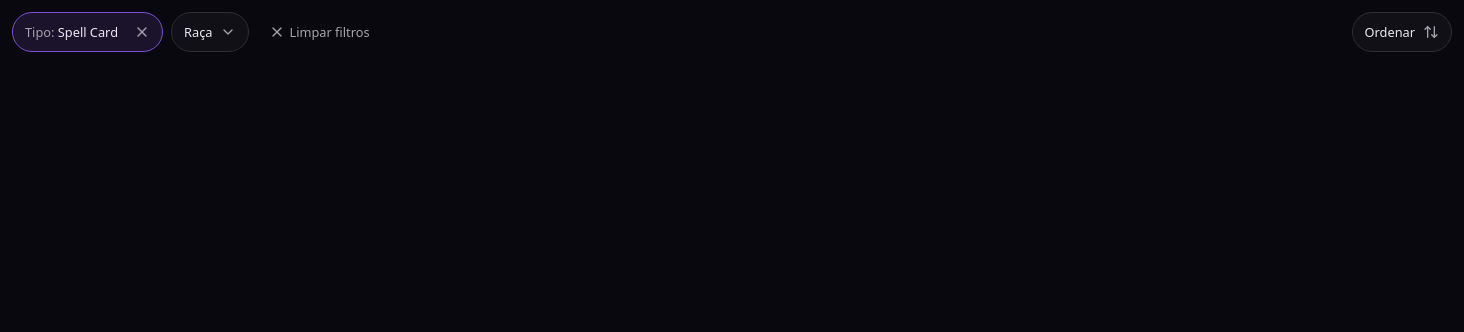
Test: FilterBar › Spell e Trap › should only offer spell races for a Spell Card type
What coordinates should you click on to do the following:
click the dropdown labelled "Raça"
I would click on:
 (210, 32)
Its box is 172,13 -> 248,51.
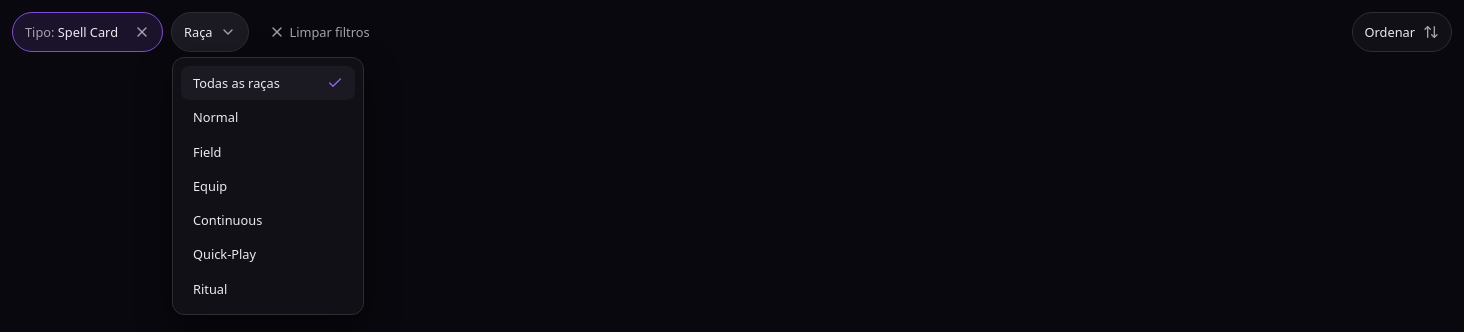
Check: the option "Quick-Play" is shown, box 193,245 -> 256,263
